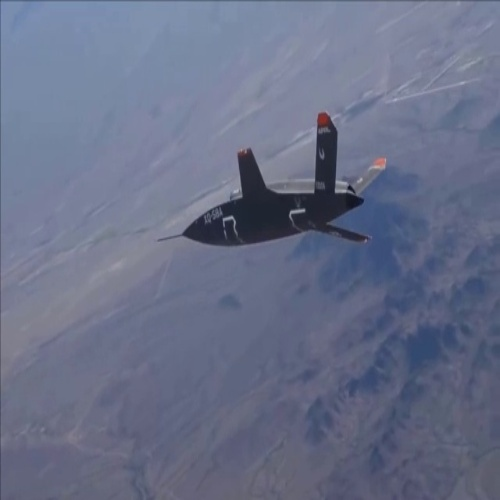uav925: (153, 107, 387, 252)
